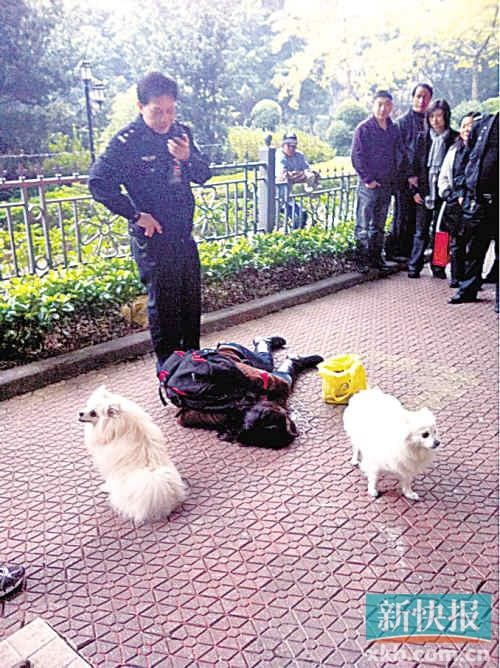falling: (166, 321, 324, 463)
